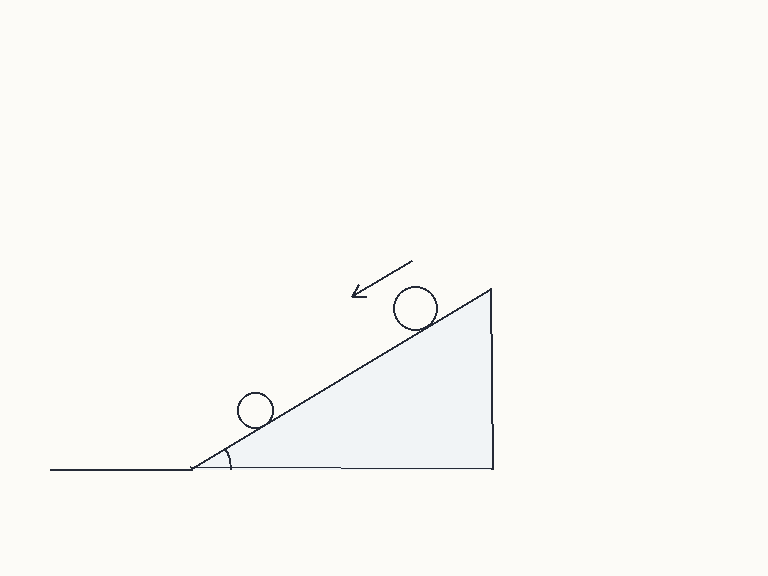ball: (391, 284, 439, 332), (235, 390, 275, 430)
ramp: (189, 287, 493, 471)
